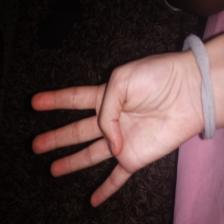four: (32, 63, 198, 205)
